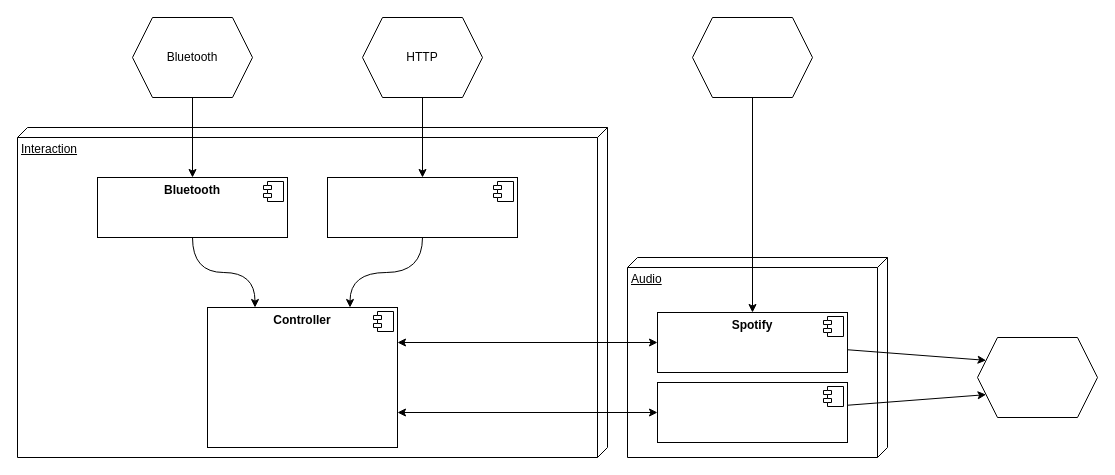
Some shapes in this 1115 by 475 pixel diagram are drawn without their labels. Here are the shapes that lost their labels. From the top down, the centre of each, then its label:
(752,57): Spotify Connect
(422,207): Management
(1037,377): Speaker
(752,412): Radio Stations
